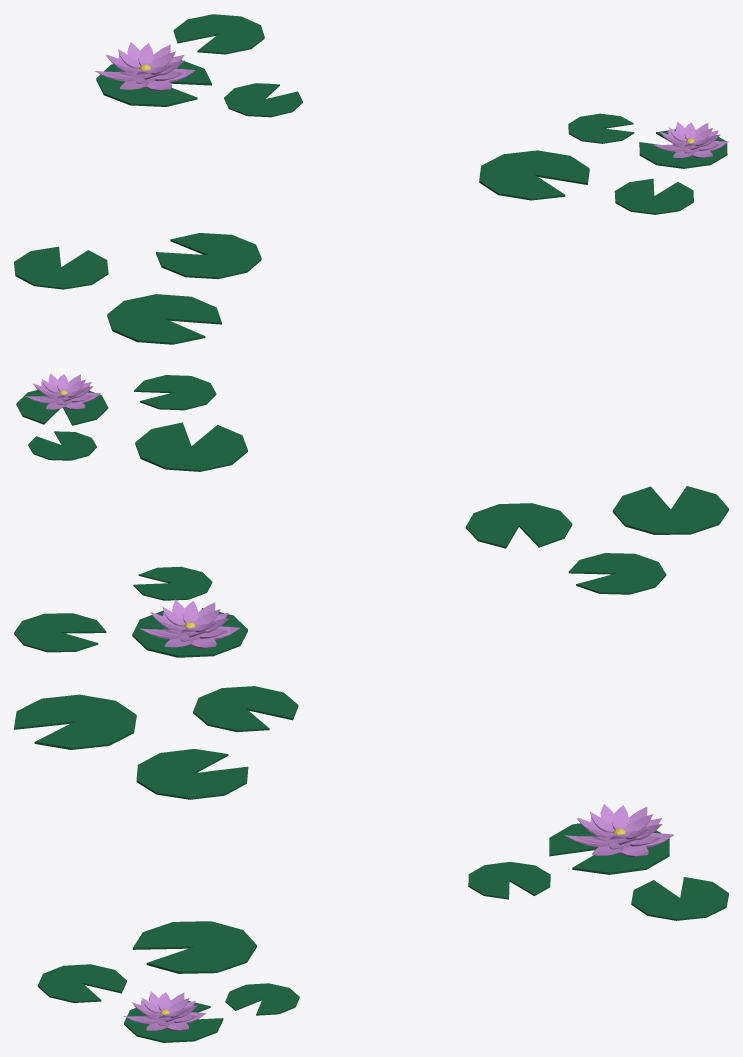
The model's file is Seerosen.fbx.
The picture shows the model from 3 angles, top to bottom: view 1: azimuth 30°, elevation 25°; view 2: azimuth 150°, elevation 25°; view 3: azimuth 270°, elevation 25°; orthographic projection. The views are drawn at different scales.
Visible parts, largest first — view 1: Zylinder, Zylinder_1_2, Zylinder_2, Zylinder_1, Zylinder_1_3, Zylinder_4, Zylinder_3, Zylinder_2_4, Zylinder_2_2, Zylinder_2_3; view 2: Zylinder, Zylinder_1_2, Zylinder_2, Zylinder_1, Zylinder_1_3, Zylinder_3, Zylinder_4, Zylinder_2_4, Zylinder_2_3, Zylinder_2_2; view 3: Zylinder, Zylinder_1_2, Zylinder_2, Zylinder_1, Zylinder_1_3, Zylinder_4, Zylinder_3, Zylinder_2_4, Zylinder_2_2, Zylinder_2_3.
Boxes of the visible parts, box(x1,y1,x2,y2) form: Zylinder: box(107, 294, 221, 344); Zylinder_1_2: box(479, 150, 589, 200); Zylinder_2: box(156, 233, 261, 279); Zylinder_1: box(14, 246, 108, 289); Zylinder_1_3: box(173, 14, 264, 54); Zylinder_4: box(96, 60, 211, 106); Zylinder_3: box(614, 178, 693, 214); Zylinder_2_4: box(224, 83, 302, 117); Zylinder_2_2: box(568, 113, 634, 143); Zylinder_2_3: box(639, 129, 727, 168); Zylinder: box(612, 486, 728, 534); Zylinder_1_2: box(135, 422, 247, 471); Zylinder_2: box(465, 503, 572, 548); Zylinder_1: box(568, 553, 666, 594); Zylinder_1_3: box(14, 613, 106, 652); Zylinder_3: box(134, 375, 216, 410); Zylinder_4: box(132, 608, 247, 657); Zylinder_2_4: box(133, 566, 212, 600); Zylinder_2_3: box(16, 390, 108, 425); Zylinder_2_2: box(28, 431, 96, 460); Zylinder: box(14, 694, 136, 749); Zylinder_1_2: box(133, 921, 256, 973); Zylinder_2: box(136, 749, 248, 799); Zylinder_1: box(193, 686, 298, 732); Zylinder_1_3: box(631, 877, 728, 920); Zylinder_4: box(549, 823, 669, 874); Zylinder_3: box(37, 964, 126, 1002); Zylinder_2_4: box(468, 862, 550, 899); Zylinder_2_2: box(225, 983, 299, 1015); Zylinder_2_3: box(124, 1000, 223, 1042).
Size of the model in its own units: 271 by 9.05 by 231.
